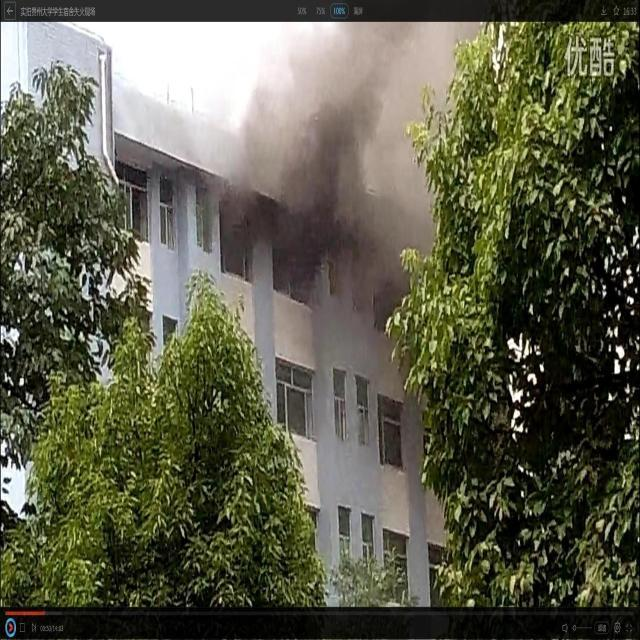Smoke: (220, 20, 480, 283)
